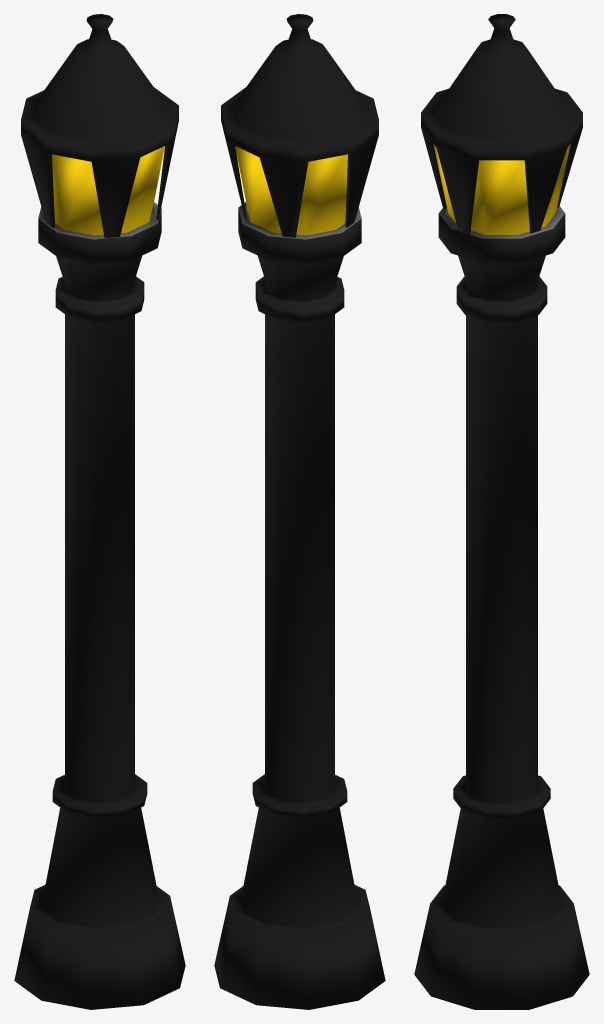
Rendered from sokak lambası .fbx.
3 views of the same model, side by side, from view 1: azimuth 30°, elevation 25°; view 2: azimuth 150°, elevation 25°; view 3: azimuth 270°, elevation 25° (orthographic).
Visible parts, largest first — view 1: İkosfer.002; view 2: İkosfer.002; view 3: İkosfer.002.
Boxes of the visible parts, x1,y1,x2,y2 form: İkosfer.002: [14, 14, 185, 1009]; İkosfer.002: [214, 14, 385, 1009]; İkosfer.002: [414, 14, 589, 1009].
Size of the model in its own units: 29.43 by 186 by 30.94.
1 material, 1 textured.
